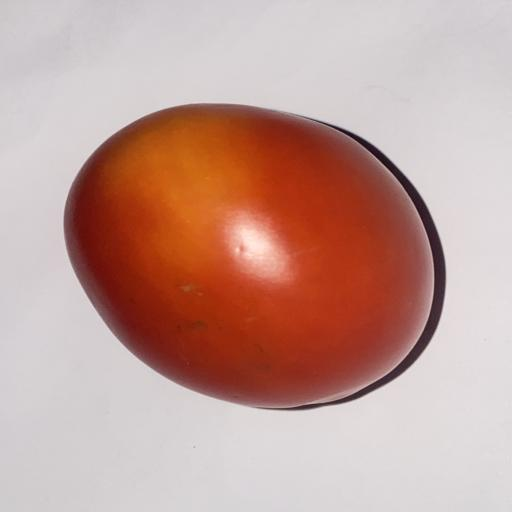ripe: (65, 104, 434, 408)
